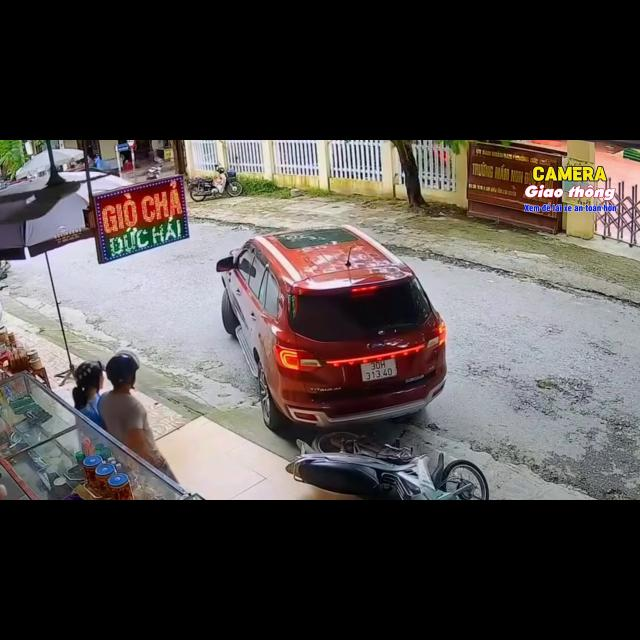car: (217, 226, 446, 430)
motorcycle: (286, 433, 488, 499), (188, 165, 242, 201), (146, 166, 161, 179), (0, 260, 10, 279)
